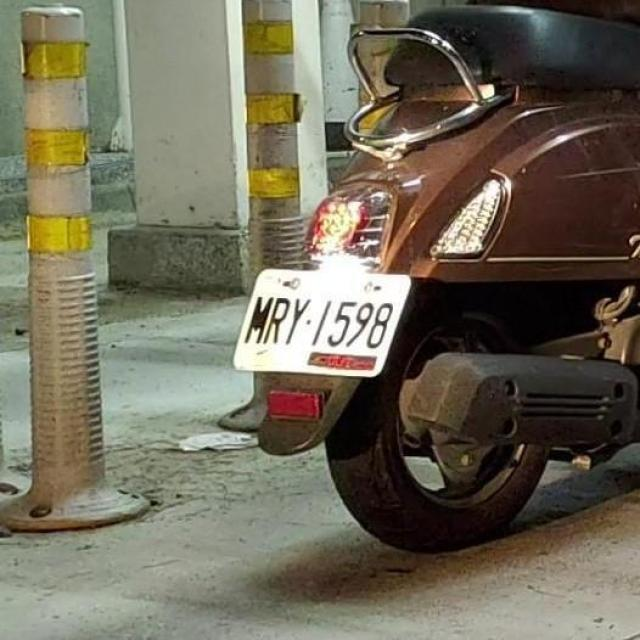W: (224, 246, 416, 388)
